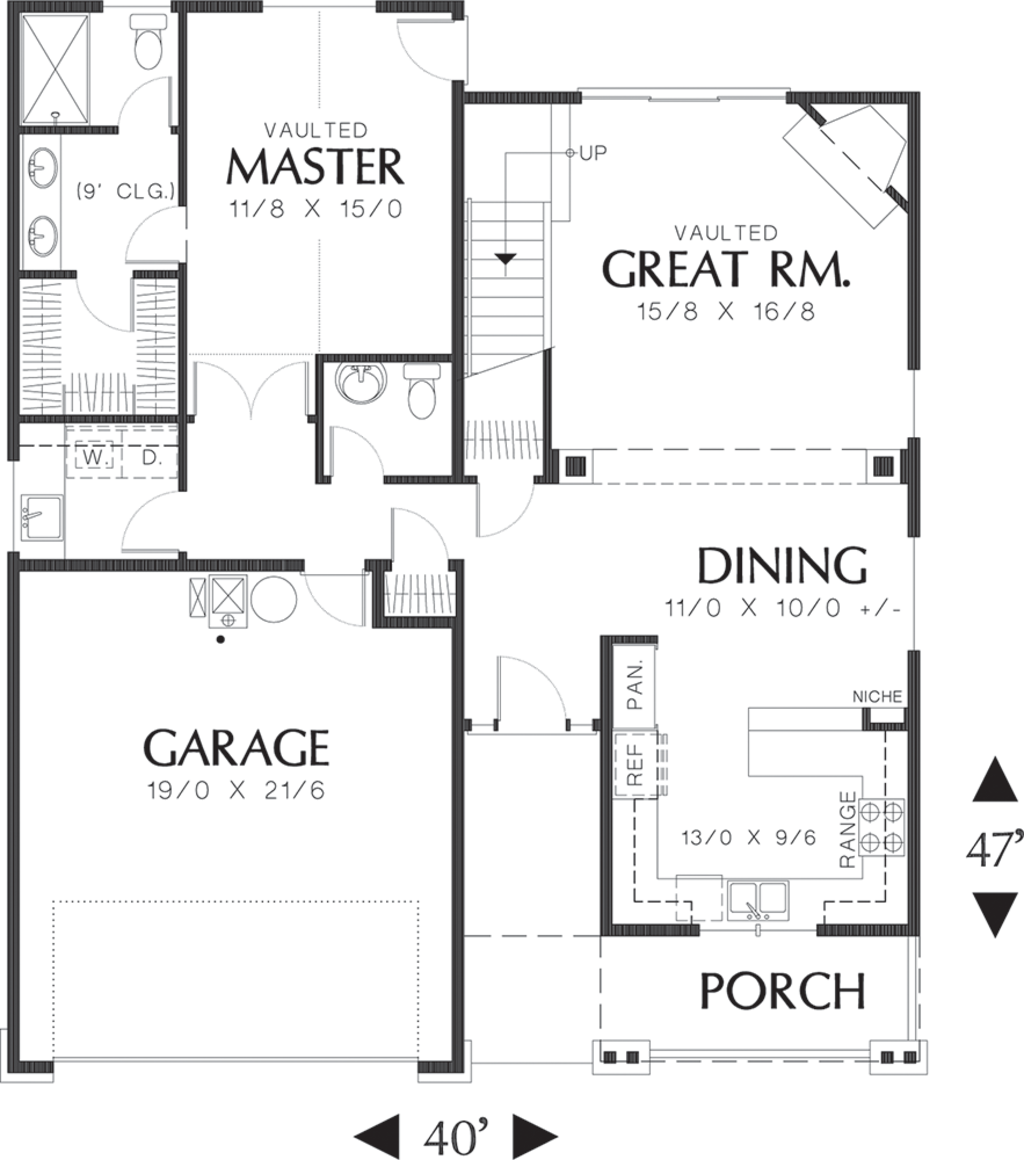door: (193, 364, 314, 425), (488, 652, 570, 734), (398, 13, 488, 87), (467, 467, 542, 543), (302, 562, 379, 631), (323, 420, 393, 494), (116, 487, 191, 555), (72, 264, 139, 338), (379, 504, 451, 571), (121, 210, 191, 267), (112, 74, 179, 131)
large_sink: (400, 355, 444, 431), (123, 10, 175, 74)
sink: (12, 487, 68, 550)
small_sink: (16, 136, 70, 271), (328, 355, 393, 413)
stairs: (451, 94, 600, 388)
twin_sink: (717, 869, 796, 938)
